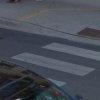Crosswalk: (20, 32, 92, 73)
